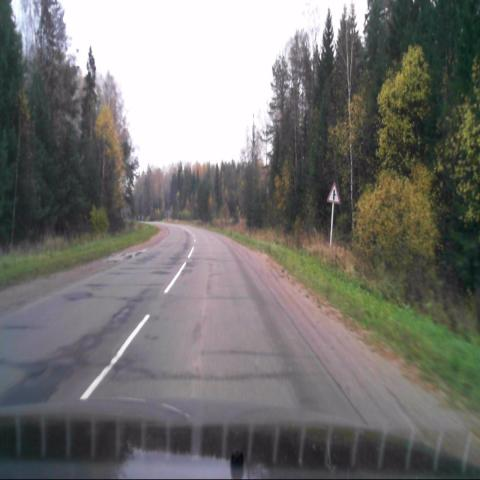2_3_2: (327, 181, 341, 204)
